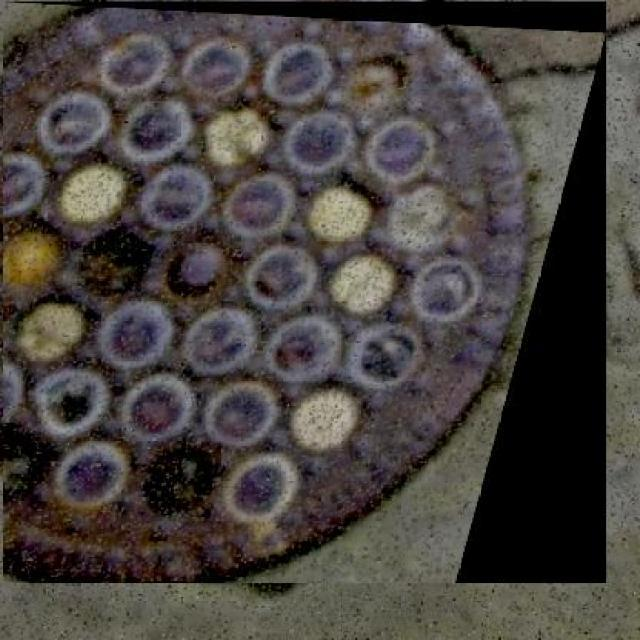Manhole: (3, 1, 606, 584)
